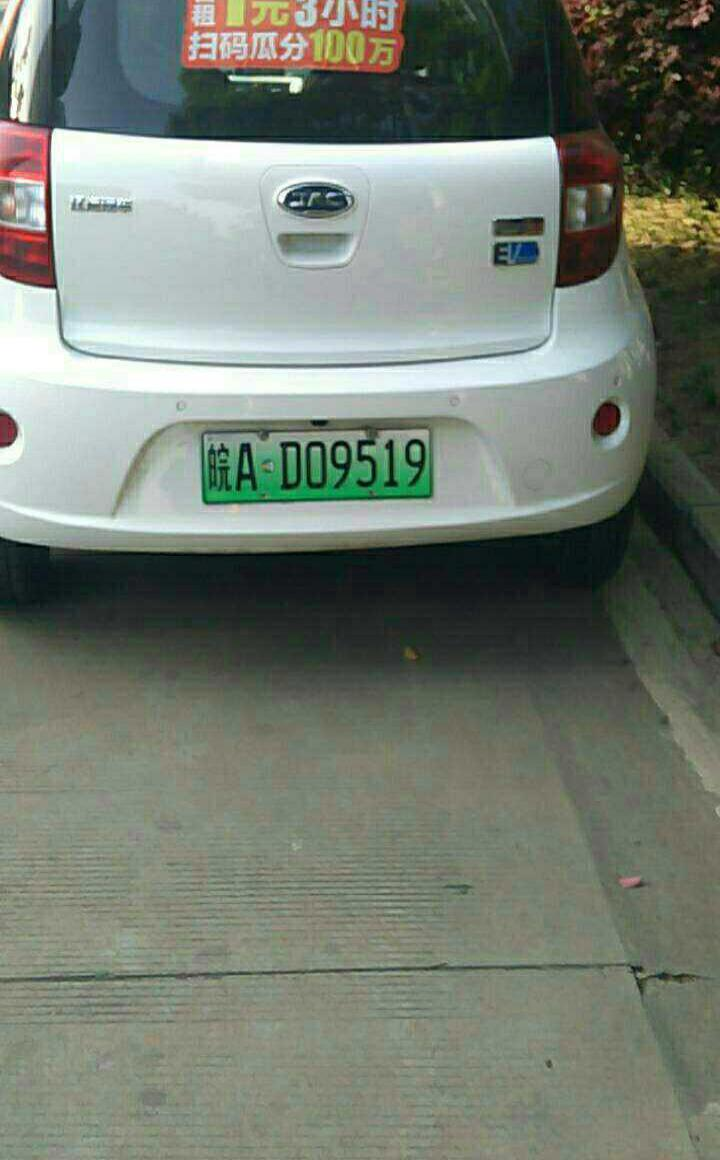car_green: (197, 423, 440, 502)
